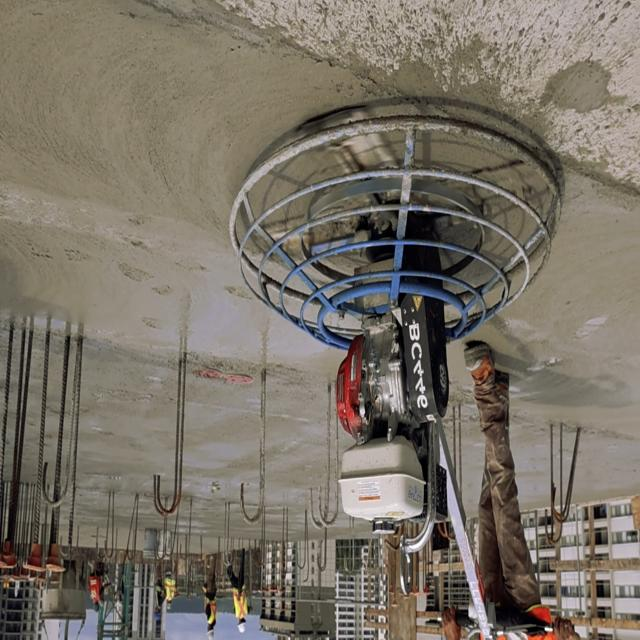Boots: (460, 341, 514, 447)
Helmet: (206, 623, 218, 640), (237, 620, 247, 635)
Vest: (232, 578, 250, 619), (206, 590, 218, 631), (164, 572, 176, 599), (89, 578, 102, 602)
